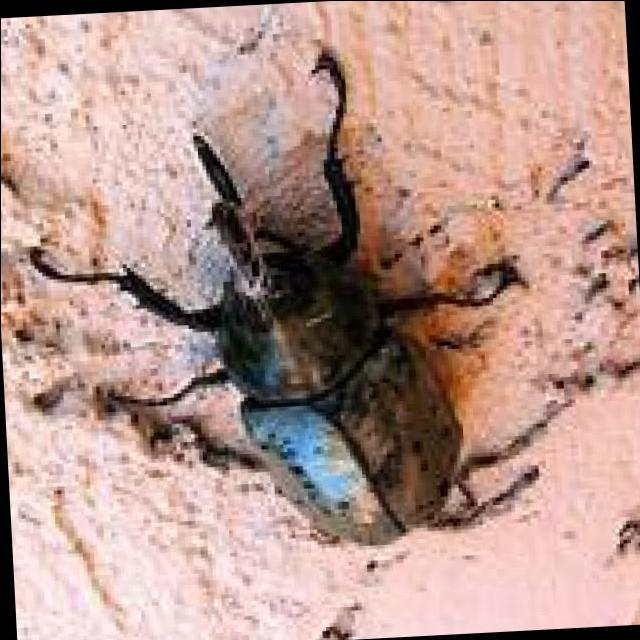Rhino-beetle: (159, 70, 510, 559)
